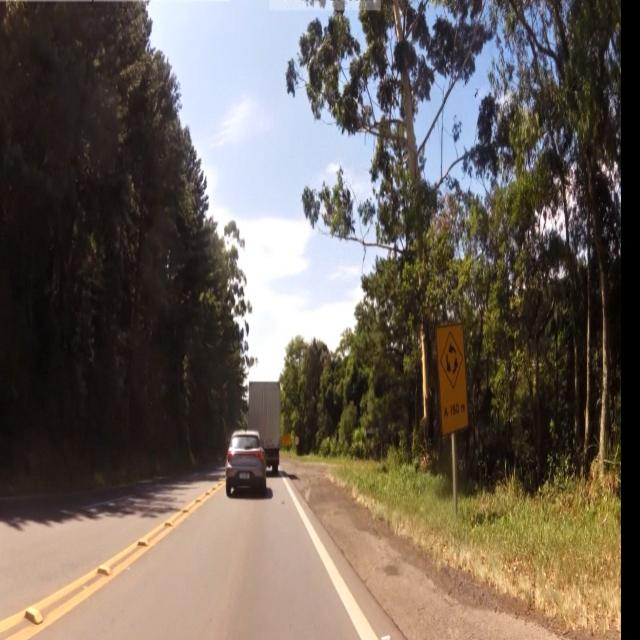A-12: (438, 330, 462, 387)
